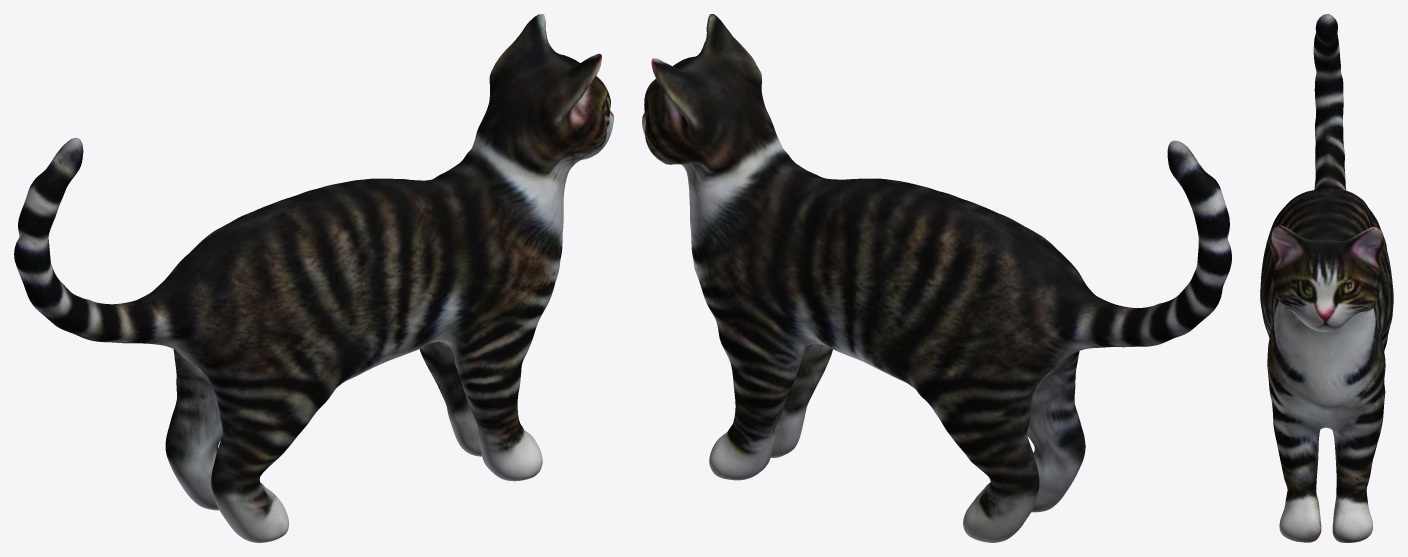
File: chat.glb
3 renders of one model, left to right at view 1: azimuth 30°, elevation 25°; view 2: azimuth 150°, elevation 25°; view 3: azimuth 270°, elevation 25°, orthographic. The views are drawn at different scales.
Visible parts, largest first — view 1: Object_2; view 2: Object_2; view 3: Object_2.
Part boxes in pixels (x1=…): Object_2: x1=14, y1=14, x2=613, y2=542; Object_2: x1=642, y1=14, x2=1231, y2=542; Object_2: x1=1260, y1=14, x2=1393, y2=542.
Bounding box in the file's own units: 1 × 0.6923 × 0.2385.
1 material, 1 textured.
